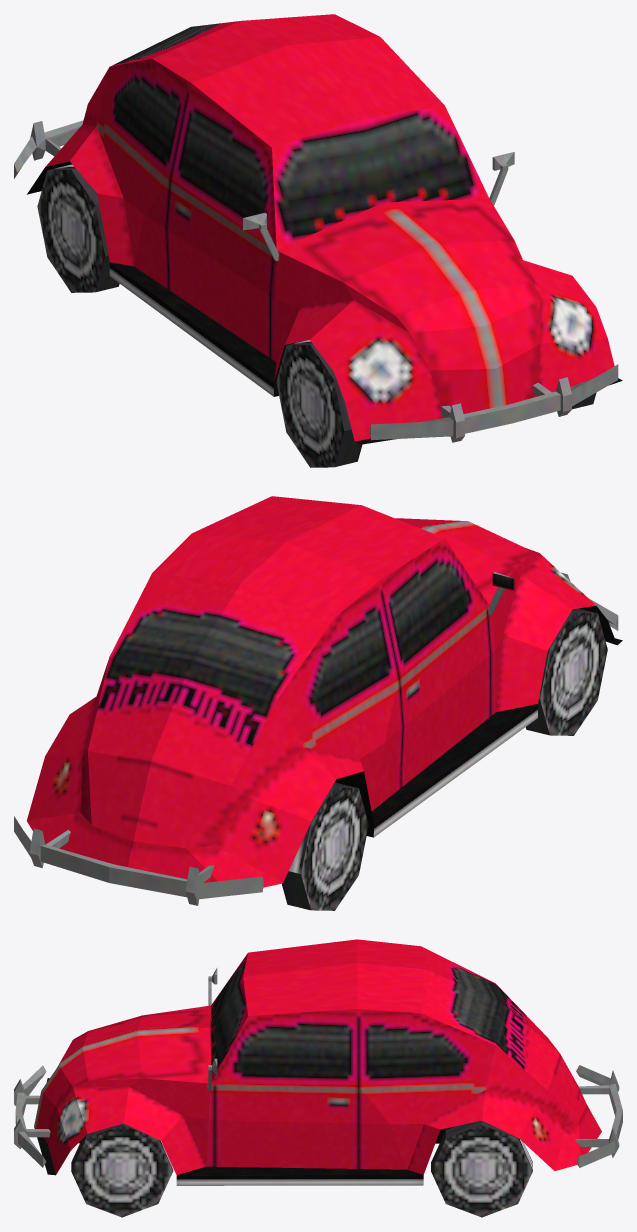
File: petaroja.fbx
3 views of the same model, one above another, from view 1: azimuth 30°, elevation 25°; view 2: azimuth 150°, elevation 25°; view 3: azimuth 270°, elevation 25° (orthographic). The views are drawn at different scales.
Visible parts, largest first — view 1: compact_classic; view 2: compact_classic; view 3: compact_classic.
Part boxes in pixels (x1,y1,x2,y2): compact_classic: [14, 14, 622, 467]; compact_classic: [14, 496, 622, 910]; compact_classic: [14, 939, 622, 1217].
Bounding box in the file's own units: 158 × 153 × 406.
1 material, 1 textured.
